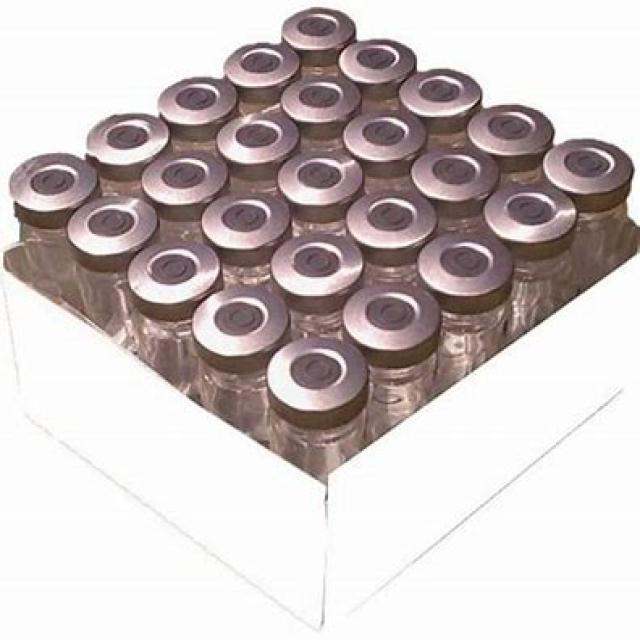vial: (545, 134, 633, 198), (421, 240, 511, 296), (270, 348, 362, 402), (288, 151, 374, 207), (348, 288, 435, 342), (130, 252, 227, 298), (412, 148, 494, 200), (195, 295, 283, 343), (469, 106, 558, 153), (346, 192, 440, 236), (490, 184, 573, 233), (342, 114, 427, 161), (275, 242, 353, 292), (216, 117, 298, 163), (409, 71, 485, 118), (144, 157, 226, 200), (14, 162, 91, 204), (68, 203, 150, 240), (338, 42, 419, 79), (286, 5, 355, 48), (278, 82, 364, 116), (212, 198, 275, 242), (167, 78, 232, 120), (93, 117, 159, 158), (227, 47, 300, 80)
